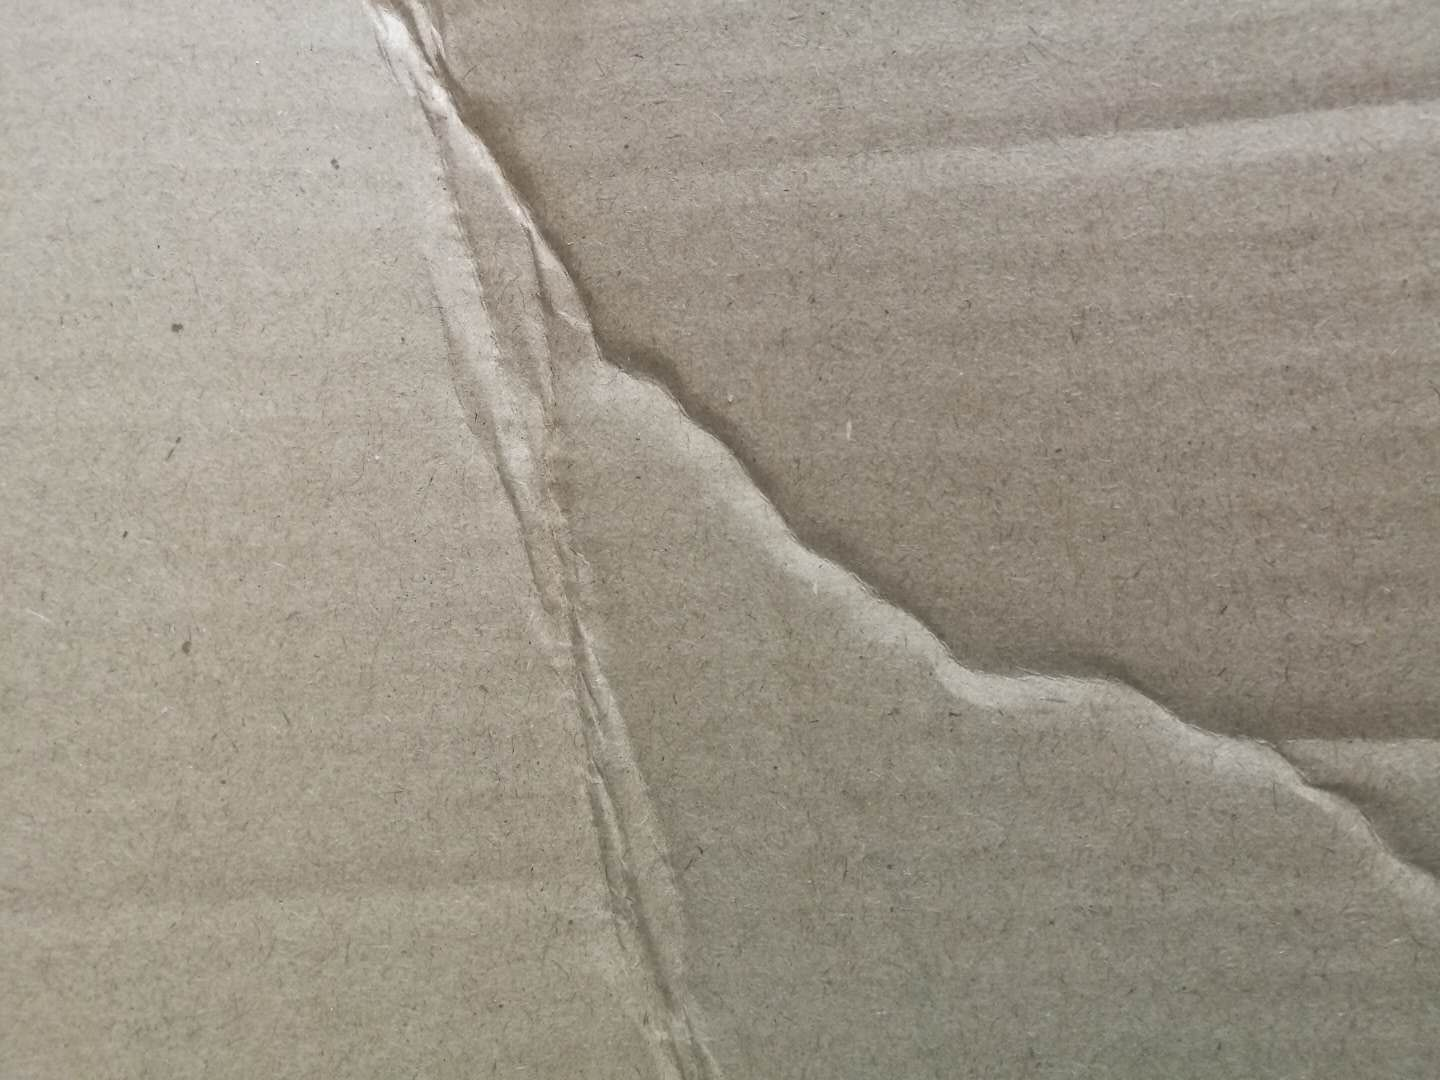defect: (325, 1, 1440, 1073), (725, 54, 1440, 184)
